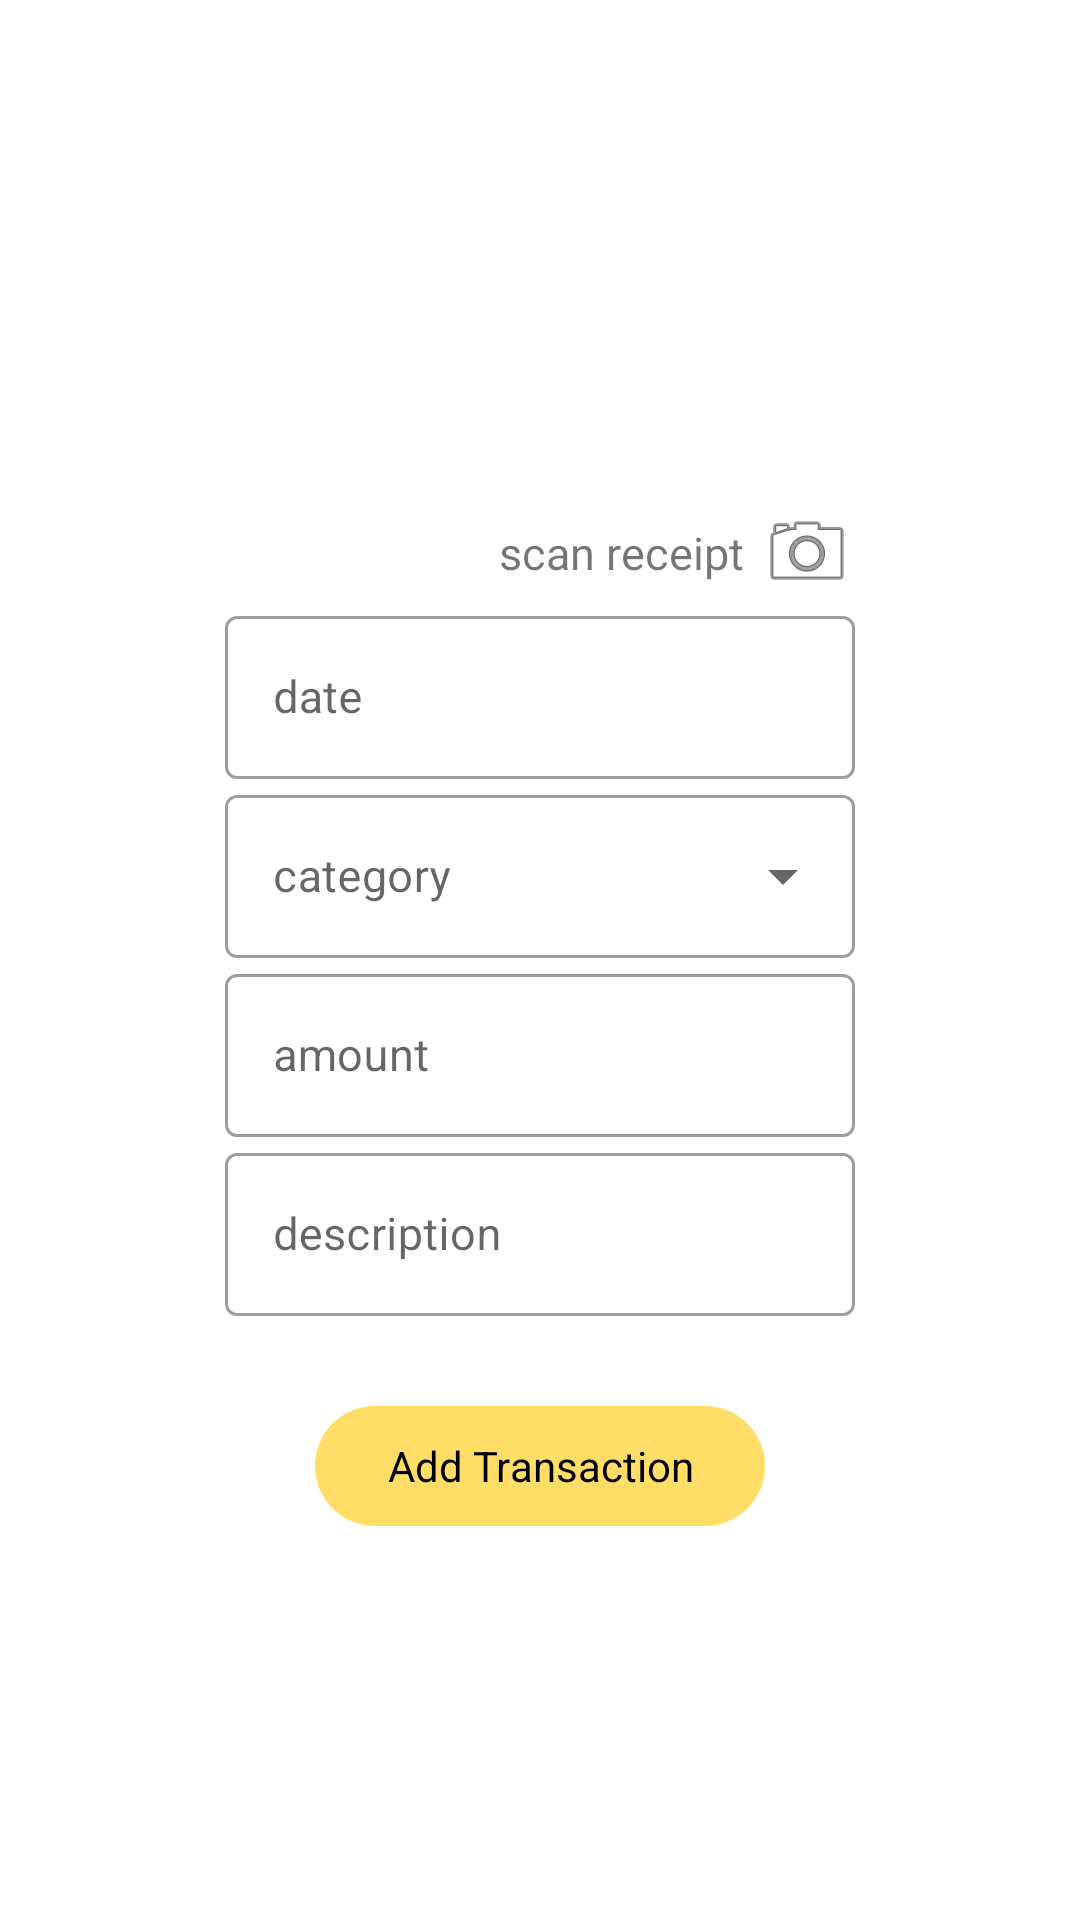

Named icons in this screenshot (1080 x 1920) and their centers, (x,y):
camera: (807,550)
